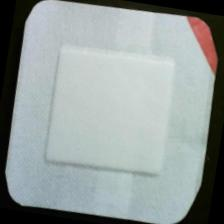Dressing: (1, 1, 224, 224)
Red_T: (177, 14, 224, 79)
